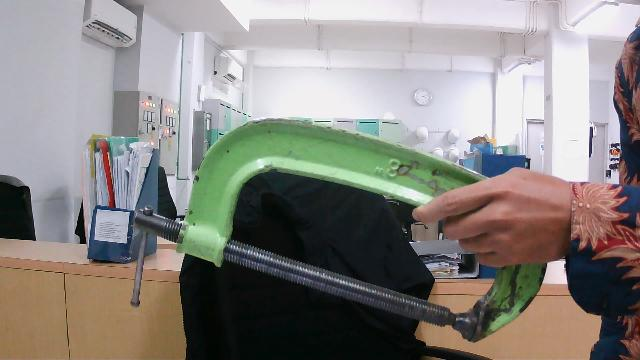tekiro_c_clamp: (129, 105, 553, 347)
